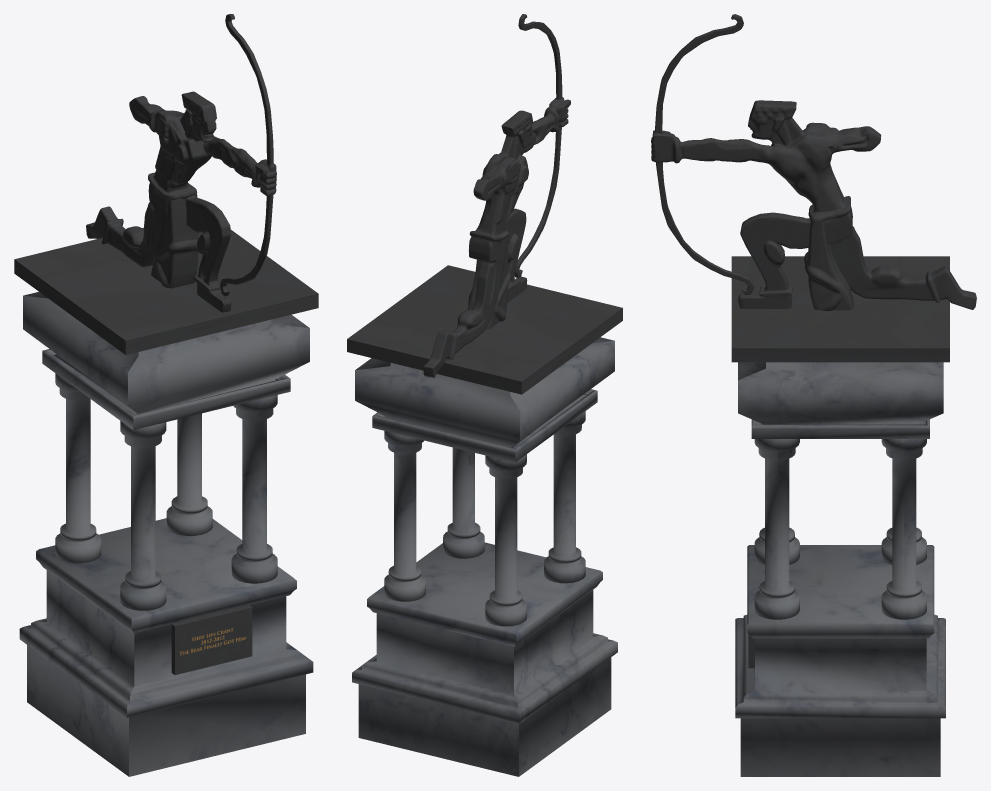
The model's file is crant.obj.
3 renders of one model, left to right at view 1: azimuth 30°, elevation 25°; view 2: azimuth 150°, elevation 25°; view 3: azimuth 270°, elevation 25°, orthographic. The views are drawn at different scales.
Visible parts, largest first — view 1: crant triangle_done; view 2: crant triangle_done; view 3: crant triangle_done.
Part boxes in pixels (box(x1,y1,x2,y2)): crant triangle_done: box(14, 14, 318, 776); crant triangle_done: box(347, 14, 622, 776); crant triangle_done: box(651, 14, 976, 776).
Size of the model in its own units: 22 by 80.66 by 32.85.
Materials: 3 (3 with a texture image).
